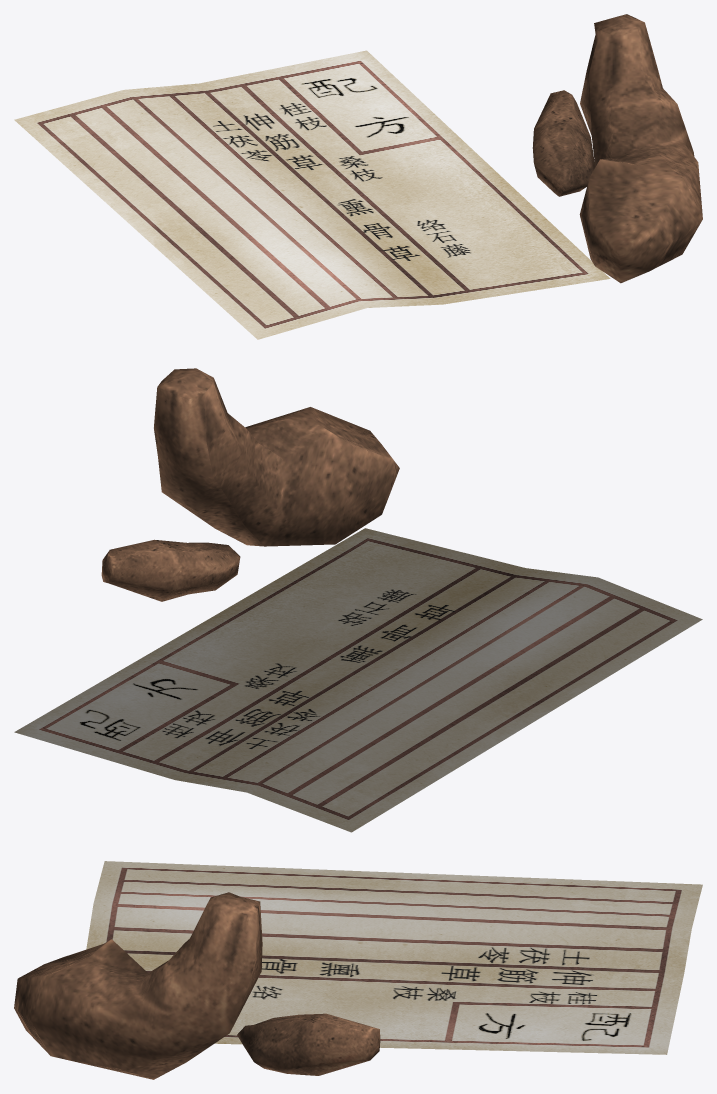
Rendered from jieduyaopeifang.FBX.
The picture shows the model from 3 angles, top to bottom: view 1: azimuth 30°, elevation 25°; view 2: azimuth 150°, elevation 25°; view 3: azimuth 270°, elevation 25°; orthographic projection. The views are drawn at different scales.
Visible parts, largest first — view 1: Line01; view 2: Line01; view 3: Line01.
Part boxes in pixels (left/top/right/bottom): Line01: left=14, top=14, right=702, bottom=339; Line01: left=14, top=368, right=702, bottom=832; Line01: left=14, top=861, right=702, bottom=1079.
Bounding box in the file's own units: 22 × 8.56 × 27.51.
